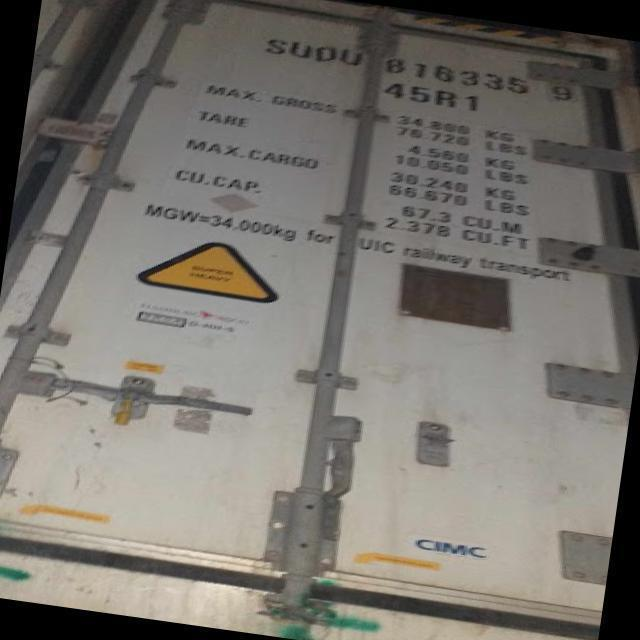ISO: (384, 78, 482, 116)
container_number: (259, 29, 572, 103)
